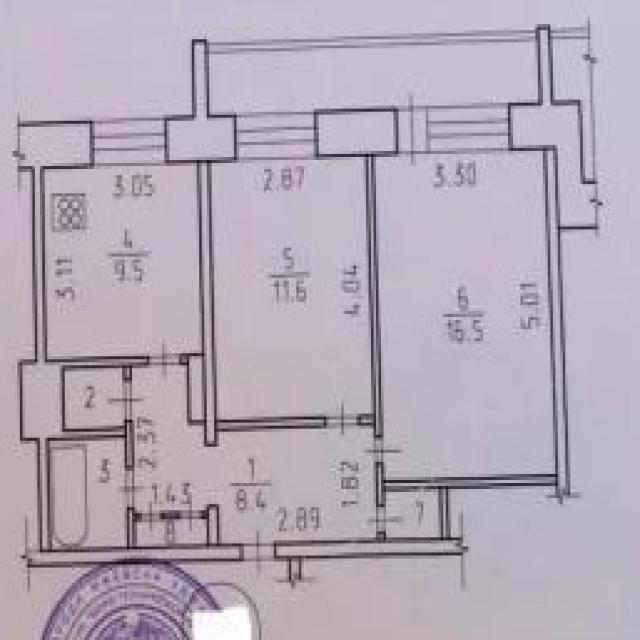Bathrooms: (50, 440, 125, 546)
Corridors: (133, 367, 375, 542), (208, 41, 539, 114), (553, 39, 594, 178), (65, 371, 124, 426), (386, 493, 440, 535), (177, 521, 207, 542), (137, 525, 165, 545)
Doors: (396, 94, 429, 169), (242, 529, 275, 580), (106, 381, 147, 420), (146, 336, 180, 381), (115, 465, 147, 508), (363, 434, 407, 464), (325, 400, 360, 436), (364, 504, 403, 532), (181, 494, 201, 533), (142, 498, 161, 533)
LBwalls: (509, 100, 604, 231), (12, 118, 94, 169), (315, 108, 397, 157), (19, 360, 64, 441), (165, 115, 236, 162), (187, 353, 205, 424)
Offices: (377, 151, 555, 478), (213, 156, 371, 420), (45, 164, 201, 359)
Walls: (273, 150, 588, 591), (198, 161, 328, 447), (18, 440, 243, 598), (206, 30, 539, 53), (357, 156, 383, 438), (64, 419, 134, 466), (32, 167, 46, 361), (63, 356, 150, 383), (537, 23, 554, 100), (192, 39, 209, 115), (551, 27, 589, 39), (180, 354, 188, 364)
Windows: (235, 113, 316, 160), (428, 105, 509, 151), (92, 119, 166, 165)
